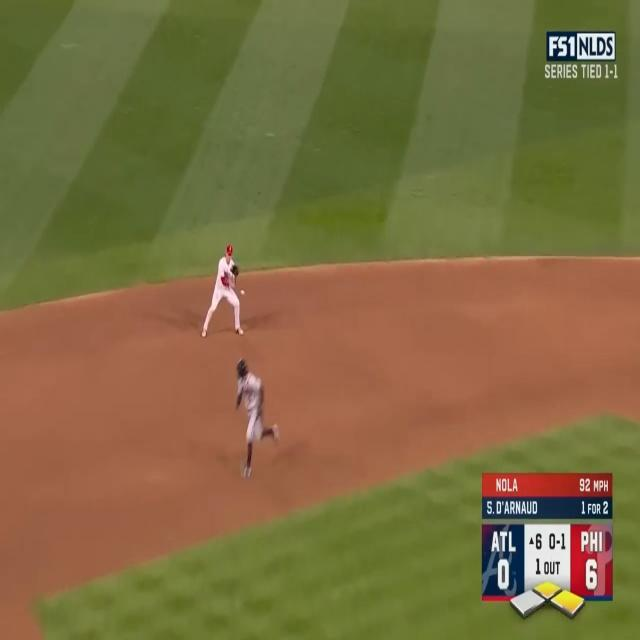baseball: (240, 289, 246, 296)
